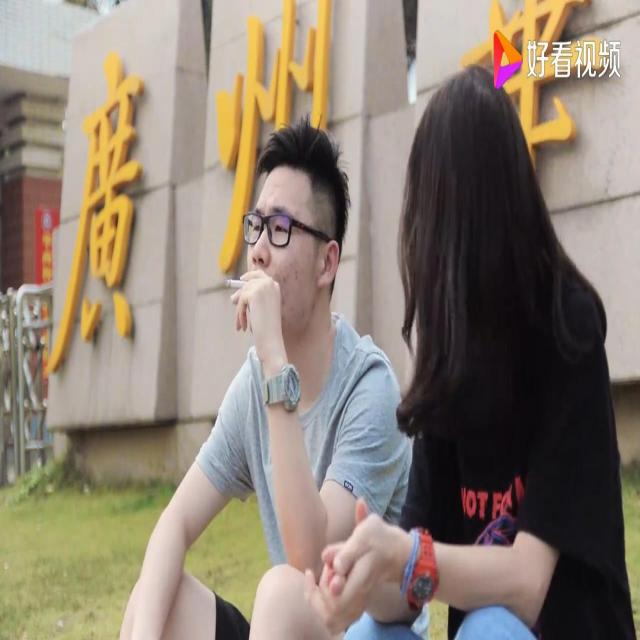smoke: (221, 269, 254, 299)
